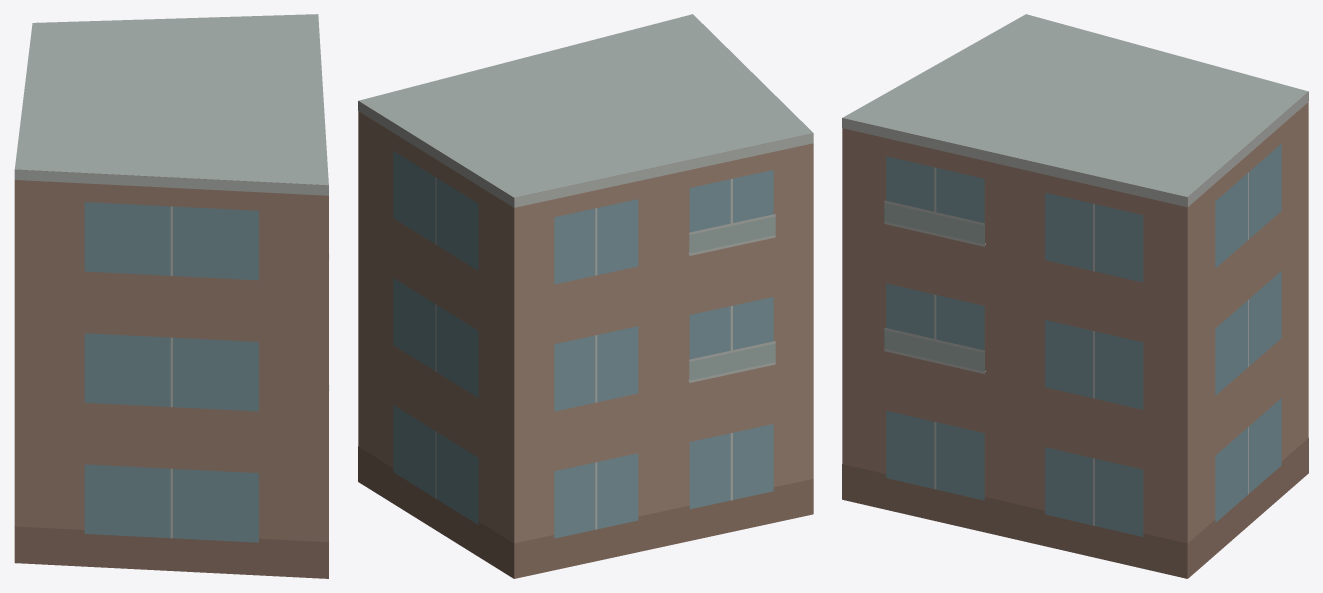
The model's file is survey-upis-32498948.glb.
3 views of the same model, side by side, from view 1: azimuth 30°, elevation 25°; view 2: azimuth 150°, elevation 25°; view 3: azimuth 270°, elevation 25° (orthographic). The views are drawn at different scales.
Parts seen in each view (by area): view 1: survey-upis-32498948.tmp; view 2: survey-upis-32498948.tmp; view 3: survey-upis-32498948.tmp.
Part boxes in pixels (x1=…): survey-upis-32498948.tmp: x1=14, y1=14, x2=329, y2=578; survey-upis-32498948.tmp: x1=358, y1=14, x2=813, y2=578; survey-upis-32498948.tmp: x1=842, y1=14, x2=1308, y2=578.
Size of the model in its own units: 9.42 by 9.15 by 10.15.
